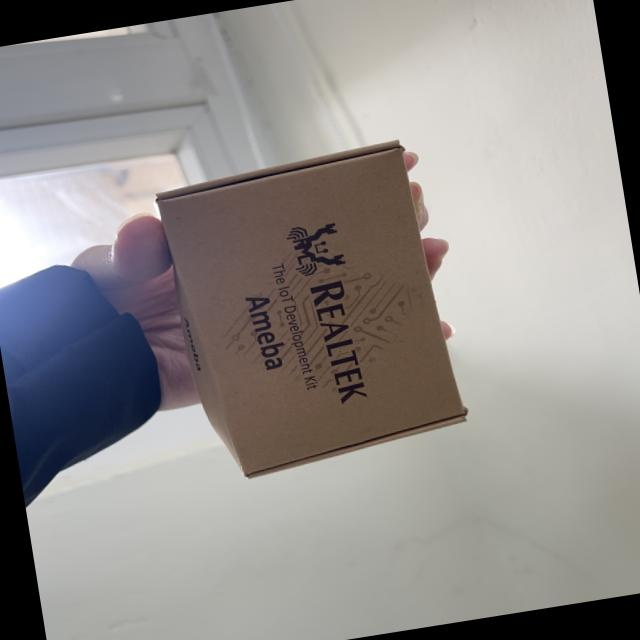box: (131, 128, 505, 520)
